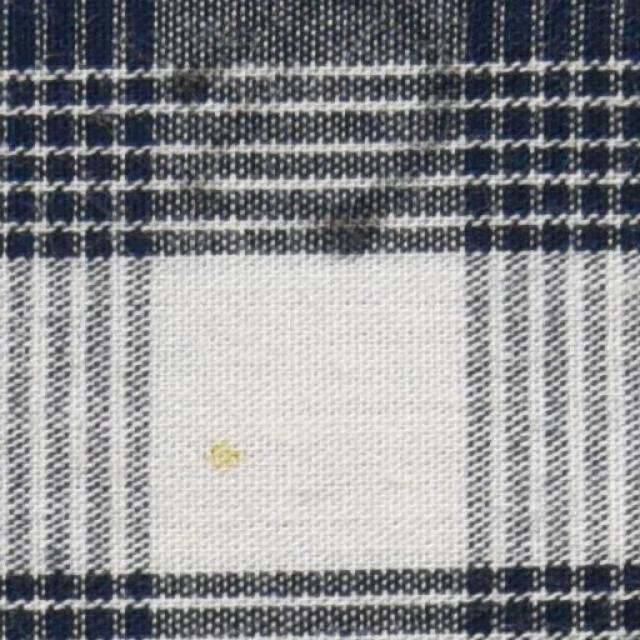Stain: (319, 177, 390, 263), (177, 18, 251, 99), (193, 440, 249, 485)
